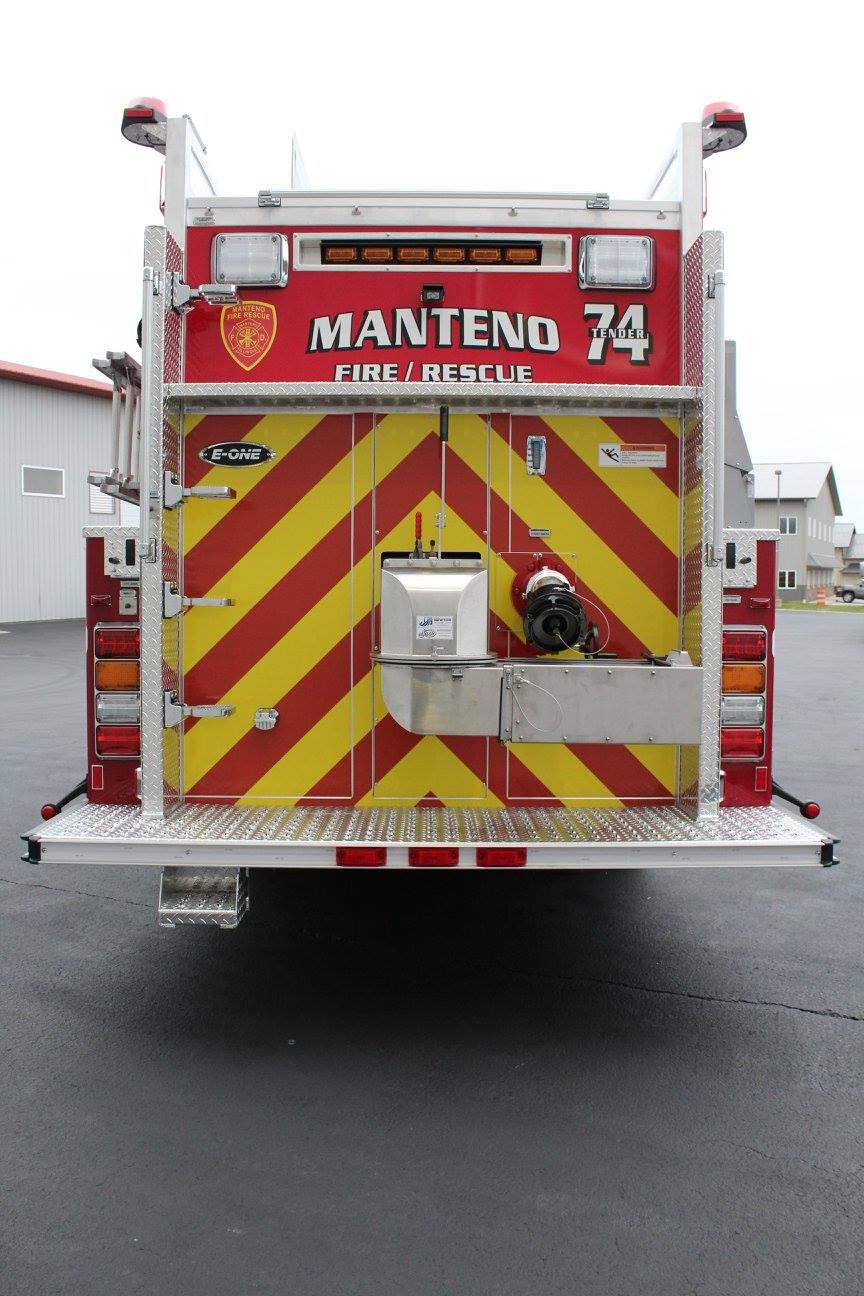Fire-engine: (19, 92, 841, 931)
